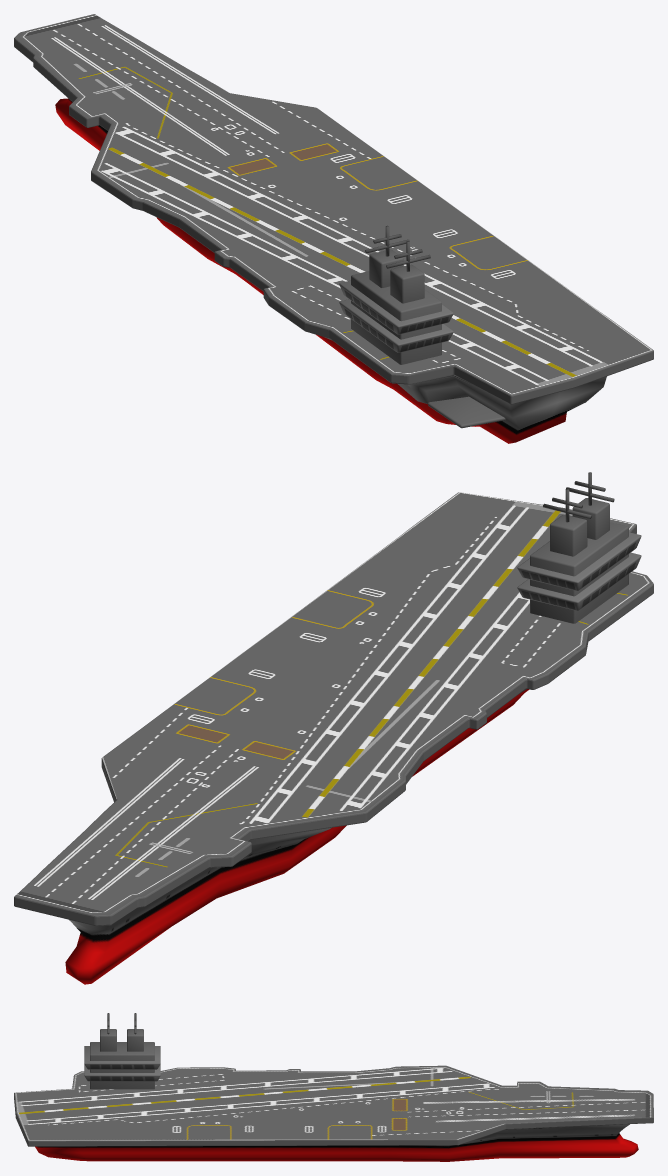
Rendered from aircraft-carrier.glb.
3 renders of one model, top to bottom at view 1: azimuth 30°, elevation 25°; view 2: azimuth 150°, elevation 25°; view 3: azimuth 270°, elevation 25°, orthographic. The views are drawn at different scales.
Parts seen in each view (by area): view 1: Cube.007, Cube, Cube.002, Cube.005, Cube.006, Cube.001, Cube.004, Cube.003; view 2: Cube.007, Cube, Cube.002, Cube.005, Cube.006, Cube.003, Cube.004; view 3: Cube.007, Cube, Cube.002, Cube.005, Cube.006, Cube.003, Cube.004.
Part boxes in pixels (left/top/right/bottom): Cube.007: left=14, top=14, right=653, bottom=404; Cube: left=55, top=98, right=606, bottom=443; Cube.002: left=351, top=271, right=441, bottom=364; Cube.005: left=339, top=280, right=453, bottom=334; Cube.006: left=339, top=299, right=453, bottom=352; Cube.001: left=428, top=396, right=505, bottom=428; Cube.004: left=390, top=264, right=424, bottom=303; Cube.003: left=369, top=249, right=403, bottom=287; Cube.007: left=14, top=492, right=653, bottom=925; Cube: left=65, top=688, right=529, bottom=984; Cube.002: left=530, top=522, right=628, bottom=623; Cube.005: left=517, top=532, right=641, bottom=590; Cube.006: left=517, top=552, right=641, bottom=610; Cube.003: left=550, top=514, right=587, bottom=556; Cube.004: left=572, top=498, right=609, bottom=539; Cube.007: left=14, top=1065, right=653, bottom=1146; Cube: left=35, top=1124, right=638, bottom=1161; Cube.002: left=90, top=1042, right=154, bottom=1089; Cube.005: left=84, top=1046, right=160, bottom=1069; Cube.006: left=84, top=1064, right=160, bottom=1081; Cube.003: left=127, top=1029, right=143, bottom=1051; Cube.004: left=100, top=1029, right=116, bottom=1051.
Bounding box in the file's own units: 44.01 × 33.55 × 158.
Materials: 1 (1 with a texture image).
